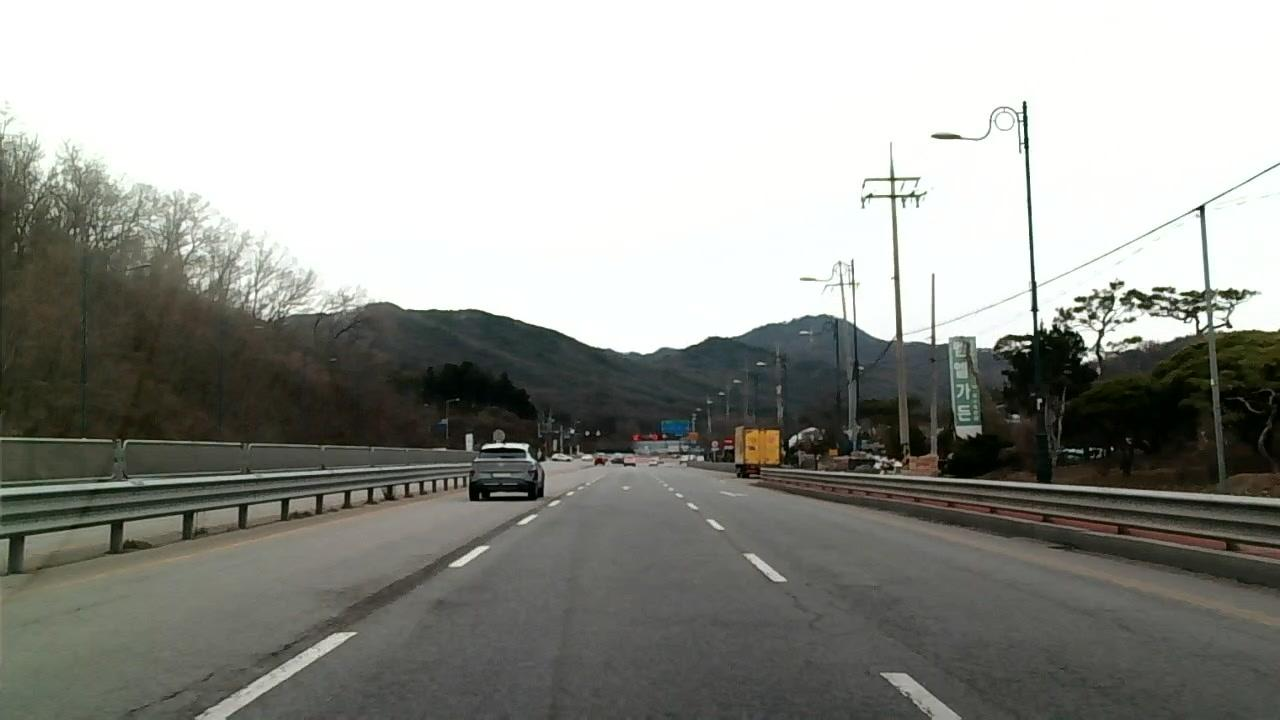vcrack: (136, 632, 314, 720), (316, 562, 438, 638), (894, 636, 998, 706), (437, 510, 524, 566), (775, 580, 814, 625)
